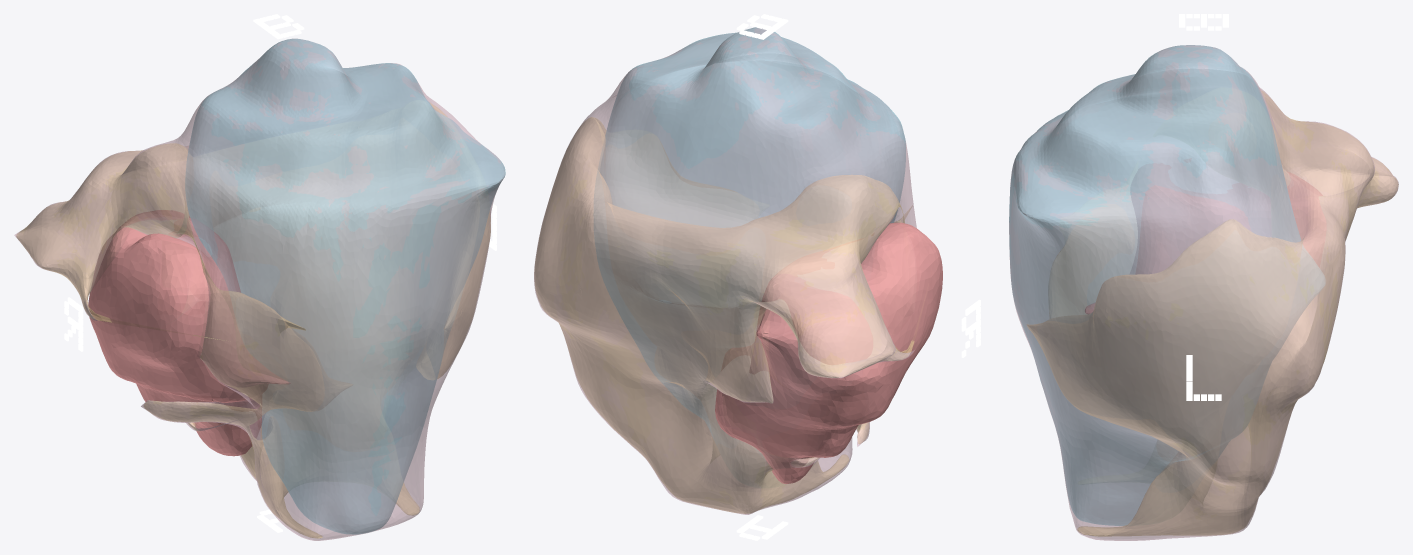
3 views of the same model, side by side, from view 1: azimuth 30°, elevation 25°; view 2: azimuth 150°, elevation 25°; view 3: azimuth 270°, elevation 25° (orthographic). The views are drawn at different scales.
Visible parts, largest first — view 1: prostate_gland, transition_zone, peripheral_zone, lesion_01, pv_ar_marker_B, pv_ar_marker_R; view 2: prostate_gland, peripheral_zone, transition_zone, lesion_01, pv_ar_marker_B, pv_ar_marker_R, pv_ar_marker_A; view 3: prostate_gland, peripheral_zone, transition_zone, lesion_01, pv_ar_marker_B, pv_ar_marker_L.
Boxes of the visible parts, left/top/right/bottom form: prostate_gland: left=14, top=38, right=504, bottom=540; transition_zone: left=185, top=38, right=505, bottom=534; peripheral_zone: left=16, top=102, right=490, bottom=538; lesion_01: left=88, top=210, right=289, bottom=456; pv_ar_marker_B: left=253, top=14, right=304, bottom=39; pv_ar_marker_R: left=64, top=297, right=83, bottom=351; prostate_gland: left=534, top=27, right=916, bottom=514; peripheral_zone: left=534, top=117, right=914, bottom=513; transition_zone: left=593, top=27, right=905, bottom=439; lesion_01: left=715, top=222, right=942, bottom=483; pv_ar_marker_B: left=736, top=14, right=788, bottom=39; pv_ar_marker_R: left=961, top=299, right=980, bottom=357; pv_ar_marker_A: left=736, top=515, right=788, bottom=540; prostate_gland: left=1009, top=45, right=1398, bottom=540; peripheral_zone: left=1027, top=90, right=1398, bottom=536; transition_zone: left=1009, top=45, right=1325, bottom=525; lesion_01: left=1085, top=158, right=1326, bottom=313; pv_ar_marker_B: left=1179, top=14, right=1228, bottom=30; pv_ar_marker_L: left=1186, top=355, right=1221, bottom=400.
Size of the model in its own units: 0.0578 by 0.0658 by 0.0459.
